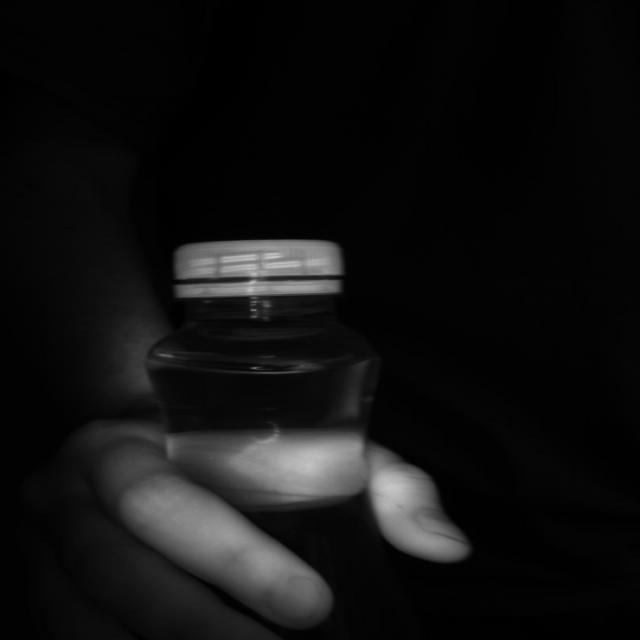Not Good: (173, 242, 344, 297)
